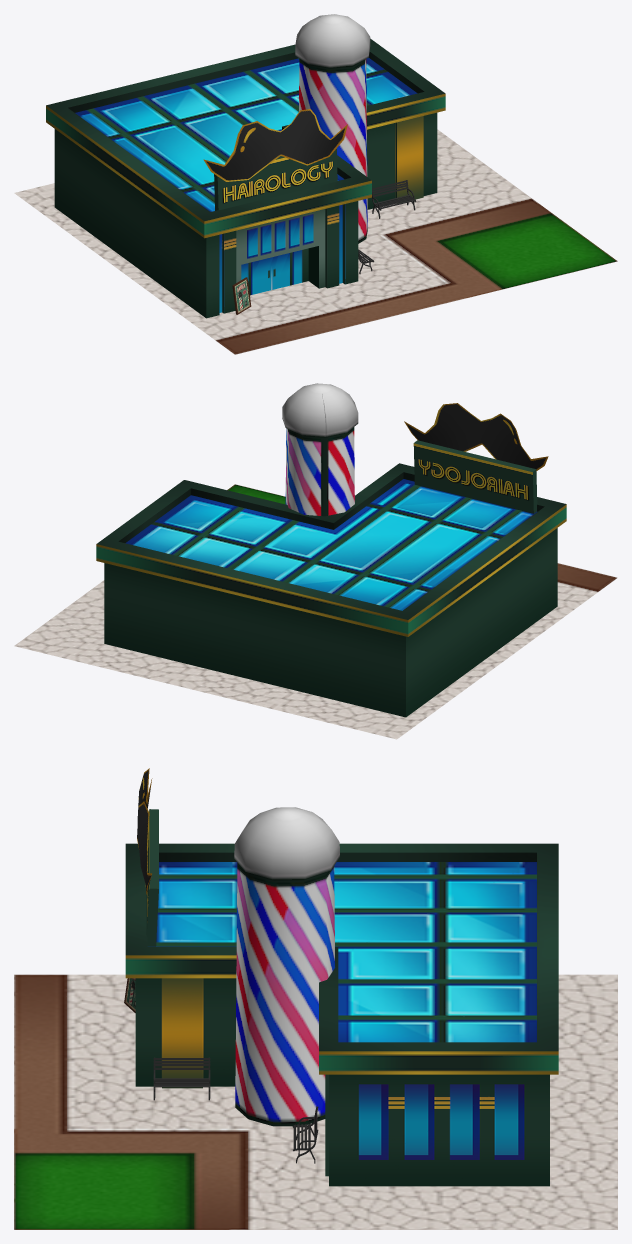
File: Tx_Exterior_Business_BarbershopT3.fbx
3 views of the same model, one above another, from view 1: azimuth 30°, elevation 25°; view 2: azimuth 150°, elevation 25°; view 3: azimuth 270°, elevation 25° (orthographic). The views are drawn at different scales.
Parts seen in each view (by area): view 1: MainBuilding, Floor, Tower, Icon, Sign, Chair2; view 2: MainBuilding, Floor, Tower, Sign, Icon; view 3: MainBuilding, Floor, Tower, Sign, Chair1, Icon, Chair2.
Part boxes in pixels (<box>): MainBuilding: <box>46,38,445,318</box>; Floor: <box>14,129,617,354</box>; Tower: <box>295,14,370,243</box>; Icon: <box>203,109,347,181</box>; Sign: <box>214,149,337,210</box>; Chair2: <box>372,180,416,218</box>; MainBuilding: <box>96,463,566,717</box>; Floor: <box>14,484,617,739</box>; Tower: <box>282,383,358,516</box>; Sign: <box>413,440,537,513</box>; Icon: <box>404,403,548,471</box>; MainBuilding: <box>124,843,558,1186</box>; Floor: <box>14,974,617,1229</box>; Tower: <box>234,807,339,1126</box>; Sign: <box>146,809,158,946</box>; Chair1: <box>153,1057,210,1100</box>; Icon: <box>137,768,152,894</box>; Chair2: <box>292,1106,318,1163</box>.
Bounding box in the file's own units: 13 × 7.05 × 13.
